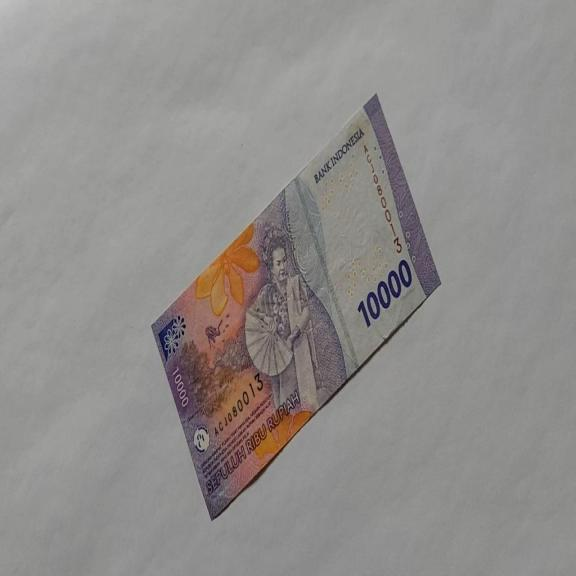Kertas: (150, 91, 442, 521), (356, 258, 412, 328)
